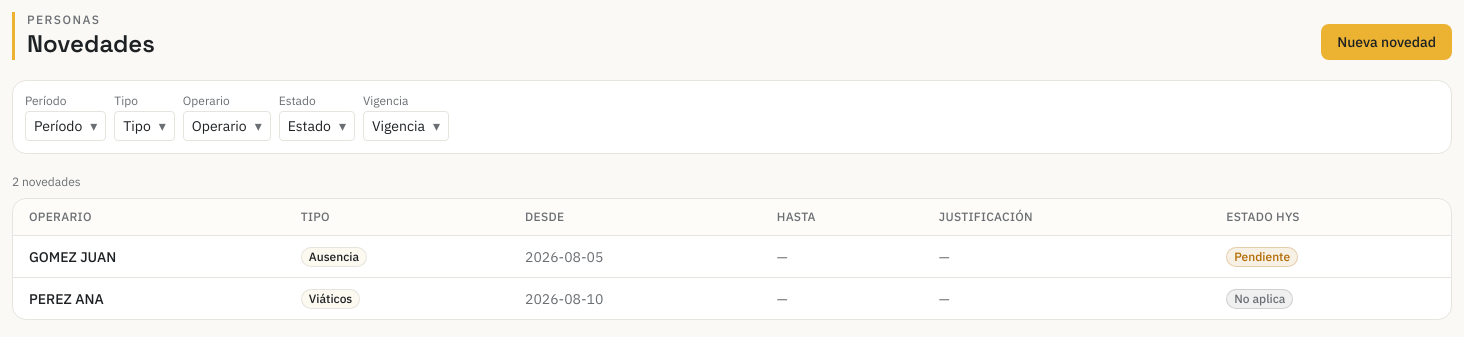
Test: NovedadesPage › filtra por operario
Click the button with aria-label "Filtrar por operario" at (227,126), box [183, 111, 271, 141]
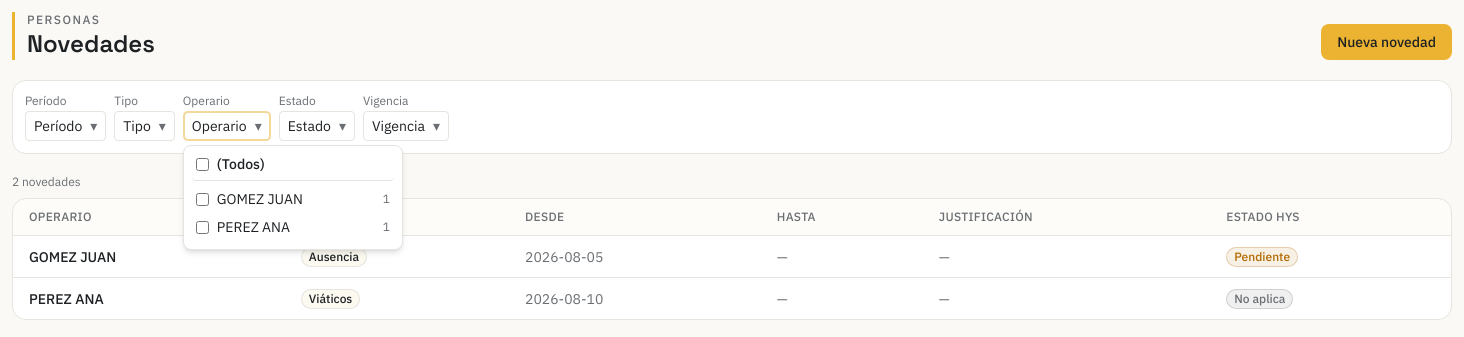
Click the checkbox labelled "PEREZ ANA" at (202,227), box [196, 220, 209, 234]
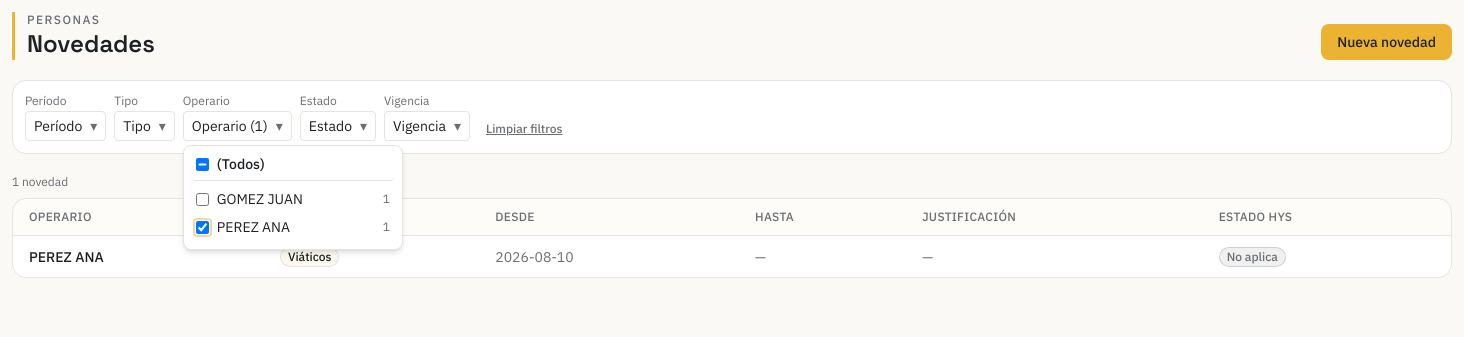
Press Escape
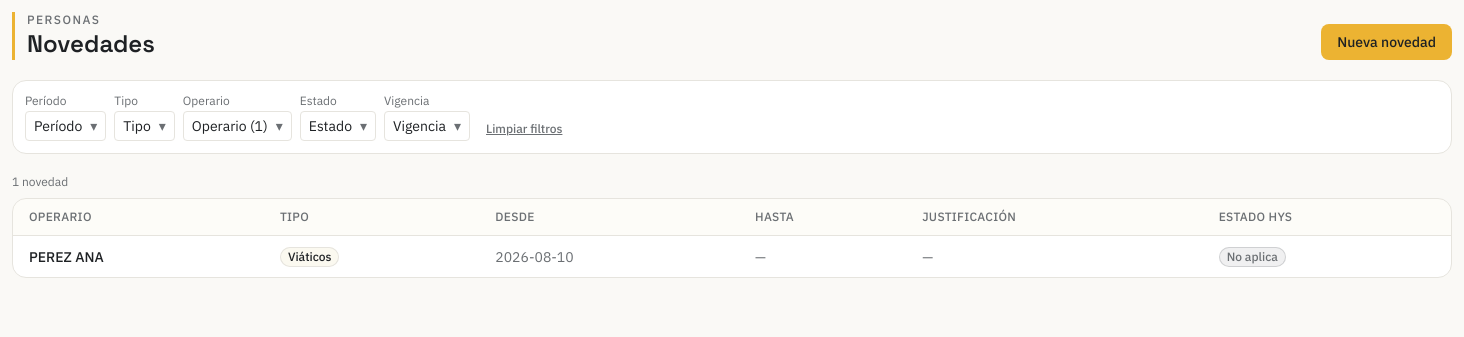
expect the text "PEREZ ANA" is shown: met, box [29, 248, 104, 266]
expect the text "GOMEZ JUAN" is gone: met
